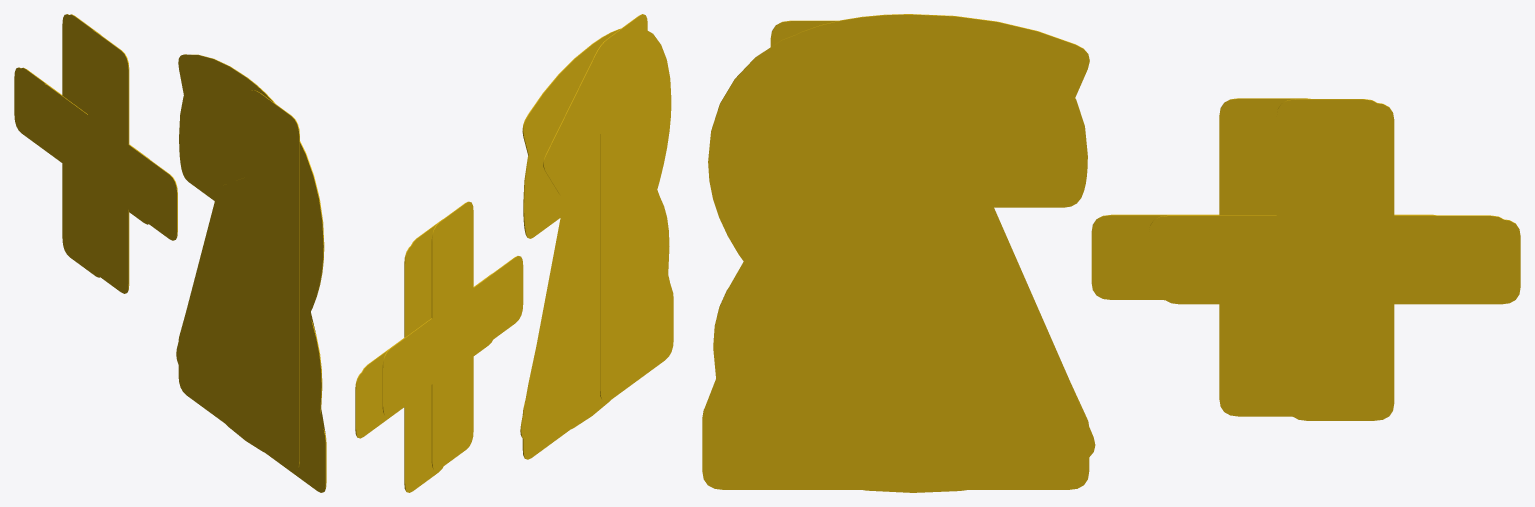
File: Materials_hp_numbers.fbx
3 renders of one model, left to right at view 1: azimuth 30°, elevation 25°; view 2: azimuth 150°, elevation 25°; view 3: azimuth 270°, elevation 25°, orthographic. The views are drawn at different scales.
Parts seen in each view (by area): view 1: hp1, hp2, hp3; view 2: hp1, hp2, hp3; view 3: hp2, hp3, hp1.
Part boxes in pixels (left/top/right/bottom): hp1: left=39, top=30, right=299, bottom=470; hp2: left=14, top=14, right=326, bottom=492; hp3: left=18, top=14, right=322, bottom=451; hp1: left=382, top=14, right=647, bottom=470; hp2: left=355, top=31, right=673, bottom=492; hp3: left=360, top=28, right=669, bottom=485; hp2: left=702, top=17, right=1520, bottom=489; hp3: left=713, top=14, right=1509, bottom=492; hp1: left=770, top=20, right=1435, bottom=416.
Bounding box in the file's own units: 0.000496 × 0.1262 × 0.1956.
